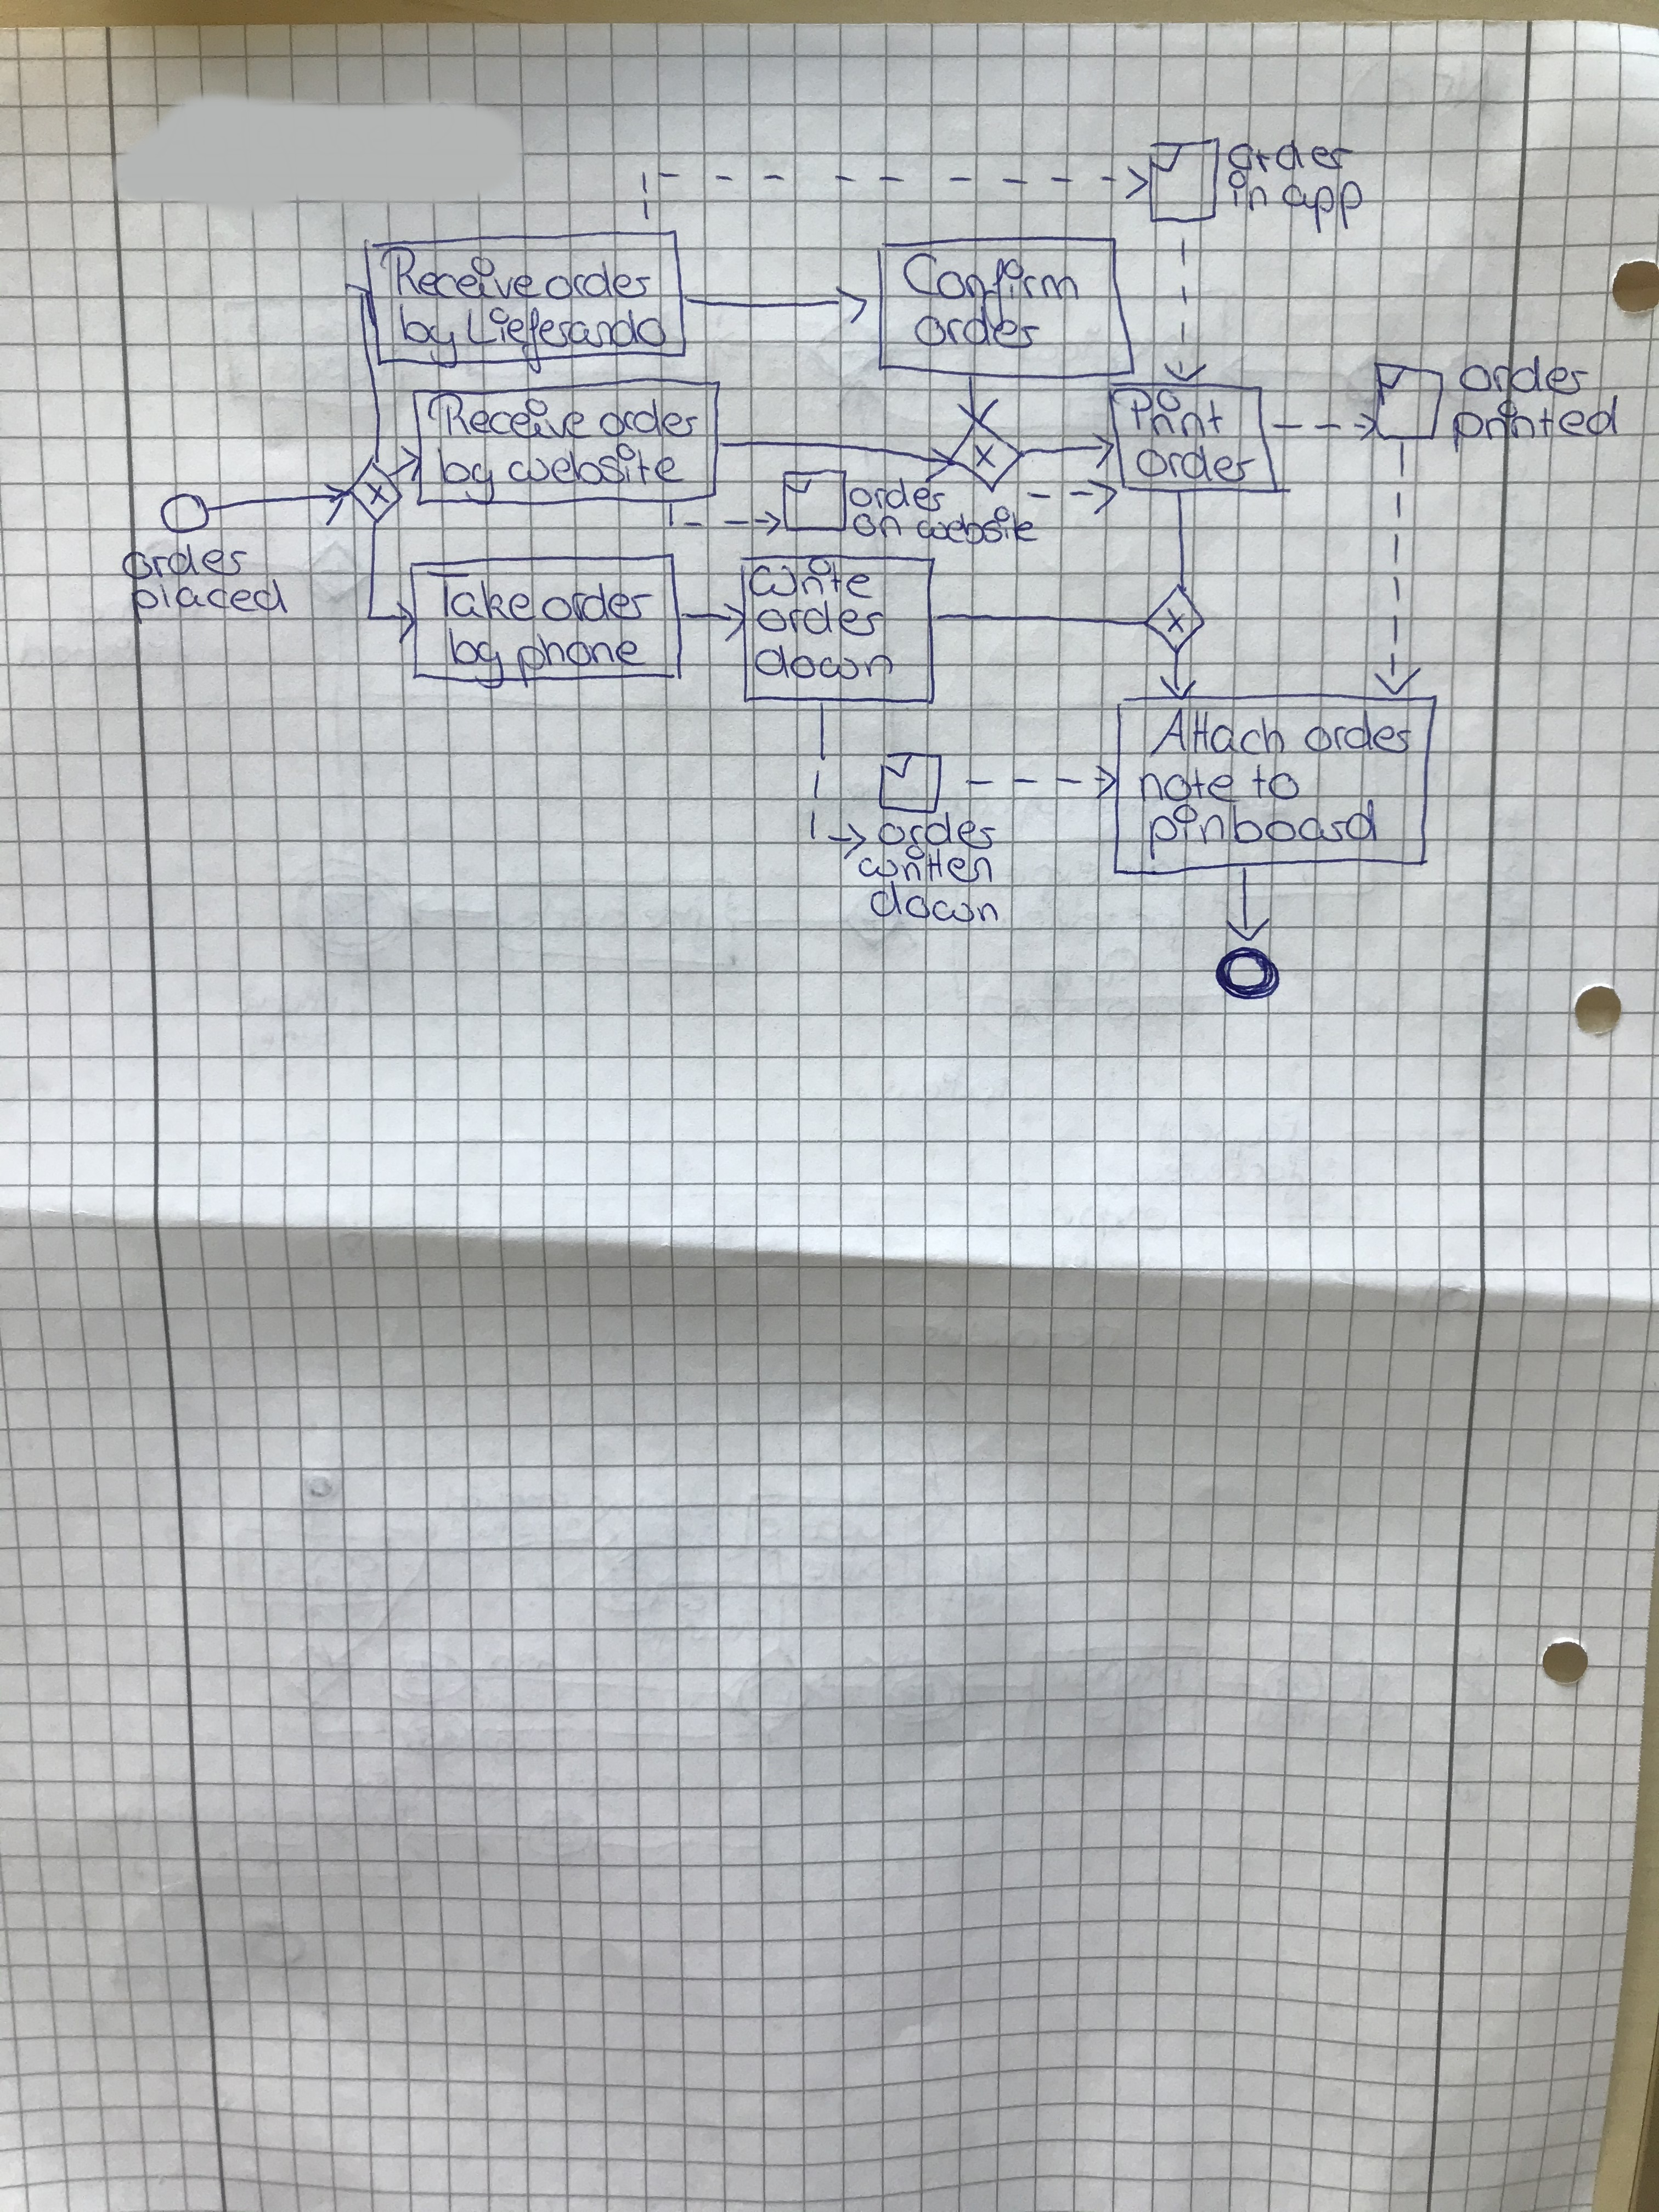Attach: (1150, 705, 1288, 756)
Confirm: (901, 251, 1087, 305)
Lieferando: (465, 303, 666, 373)
Print: (1112, 387, 1222, 435)
Receive: (380, 244, 540, 303), (429, 394, 592, 441)
Take: (429, 570, 537, 622)
Write: (748, 554, 871, 597)
app: (1281, 176, 1364, 235)
by: (397, 303, 458, 369), (436, 449, 500, 505), (448, 627, 505, 688)
down: (868, 880, 1002, 923), (753, 646, 894, 679)
in: (1223, 169, 1276, 214)
note: (1138, 765, 1237, 803)
on: (852, 510, 903, 540)
order: (1459, 354, 1591, 395), (915, 307, 1040, 350), (1302, 707, 1415, 754), (120, 540, 247, 582), (1136, 444, 1255, 486), (545, 256, 653, 300), (877, 812, 999, 850), (756, 601, 885, 636), (542, 582, 652, 622), (1227, 138, 1356, 169), (599, 399, 701, 437), (849, 479, 946, 512)
phone: (516, 634, 647, 688)
pinboard: (1147, 801, 1384, 859)
placed: (129, 580, 289, 624)
printed: (1448, 395, 1622, 453)
to: (1249, 761, 1304, 801)
website: (507, 444, 683, 484), (917, 505, 1035, 545)
written: (854, 843, 997, 883)
